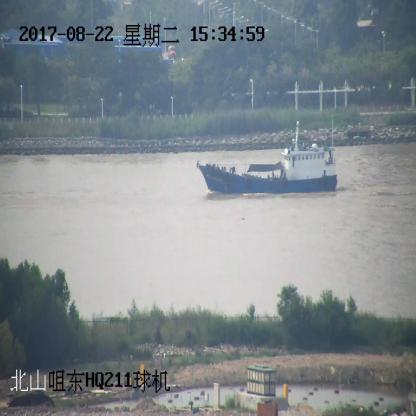Fishing Boat: (200, 123, 338, 196)
